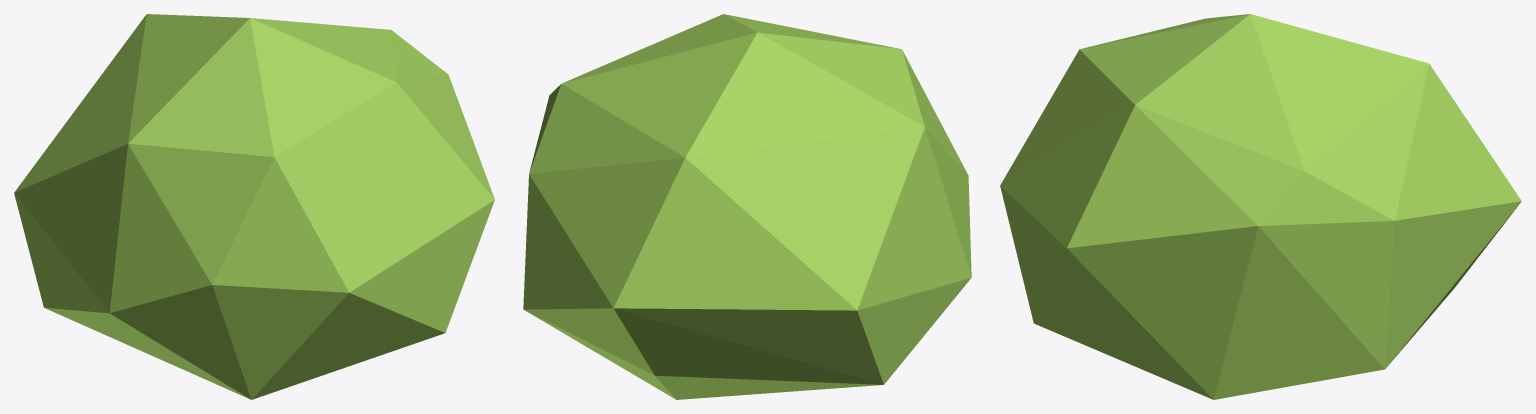
Rendered from Bush01.fbx.
3 views of the same model, side by side, from view 1: azimuth 30°, elevation 25°; view 2: azimuth 150°, elevation 25°; view 3: azimuth 270°, elevation 25° (orthographic). The views are drawn at different scales.
Visible parts, largest first — view 1: Bush01.001; view 2: Bush01.001; view 3: Bush01.001.
Part boxes in pixels (x1,y1,x2,y2): Bush01.001: (14, 14, 494, 399); Bush01.001: (523, 14, 971, 399); Bush01.001: (1000, 14, 1521, 399).
Size of the model in its own units: 107 by 93.11 by 125.
